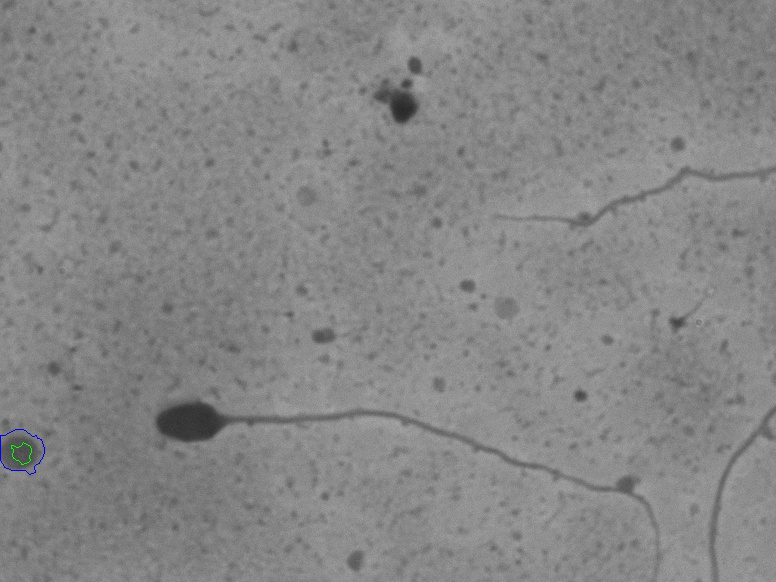Abnormal: (129, 365, 662, 566)
